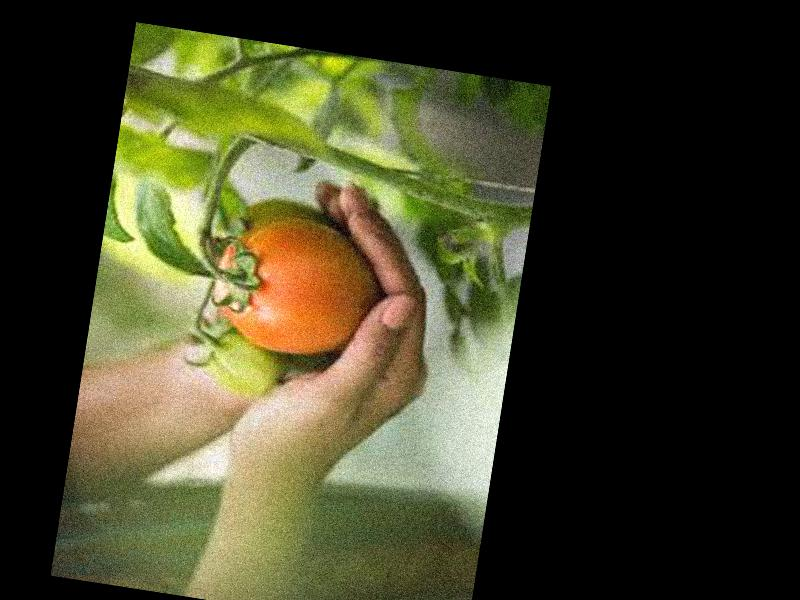Tomato: (208, 209, 380, 364)
